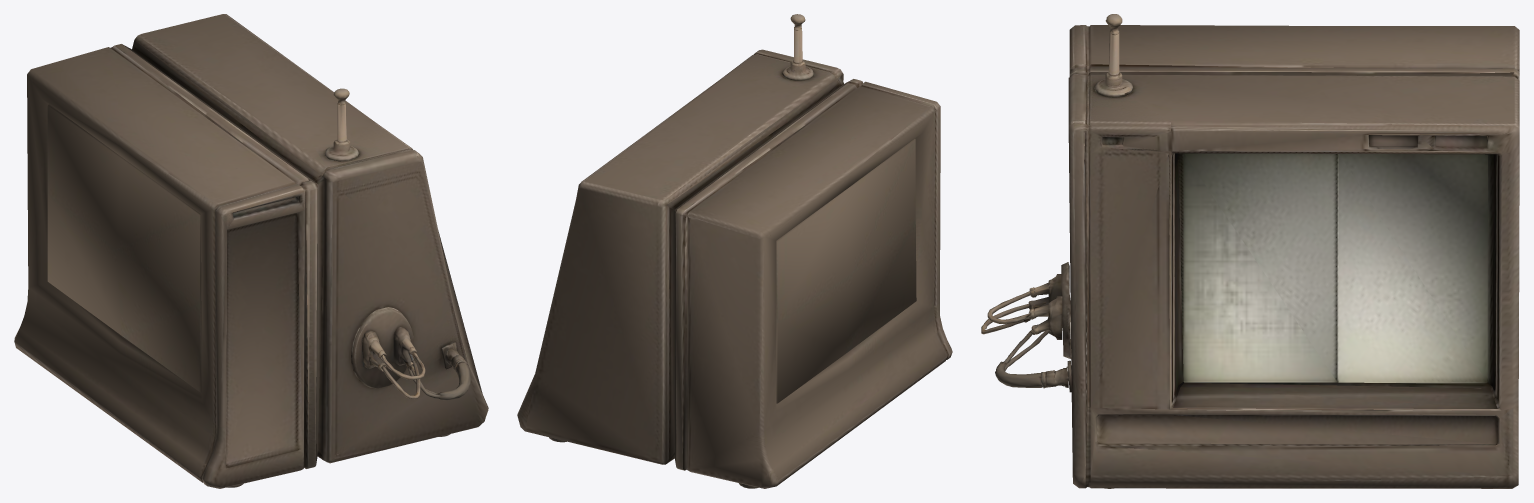
File: tablet.fbx
3 views of the same model, side by side, from view 1: azimuth 30°, elevation 25°; view 2: azimuth 150°, elevation 25°; view 3: azimuth 270°, elevation 25° (orthographic). The views are drawn at different scales.
Parts seen in each view (by area): view 1: tripo_node_8d21ff33; view 2: tripo_node_8d21ff33; view 3: tripo_node_8d21ff33.
Part boxes in pixels (x1,y1,x2,y2): tripo_node_8d21ff33: (14,14,488,488); tripo_node_8d21ff33: (517,14,952,488); tripo_node_8d21ff33: (981,14,1519,488).
Bounding box in the file's own units: 0.6934 × 0.8457 × 0.998.
